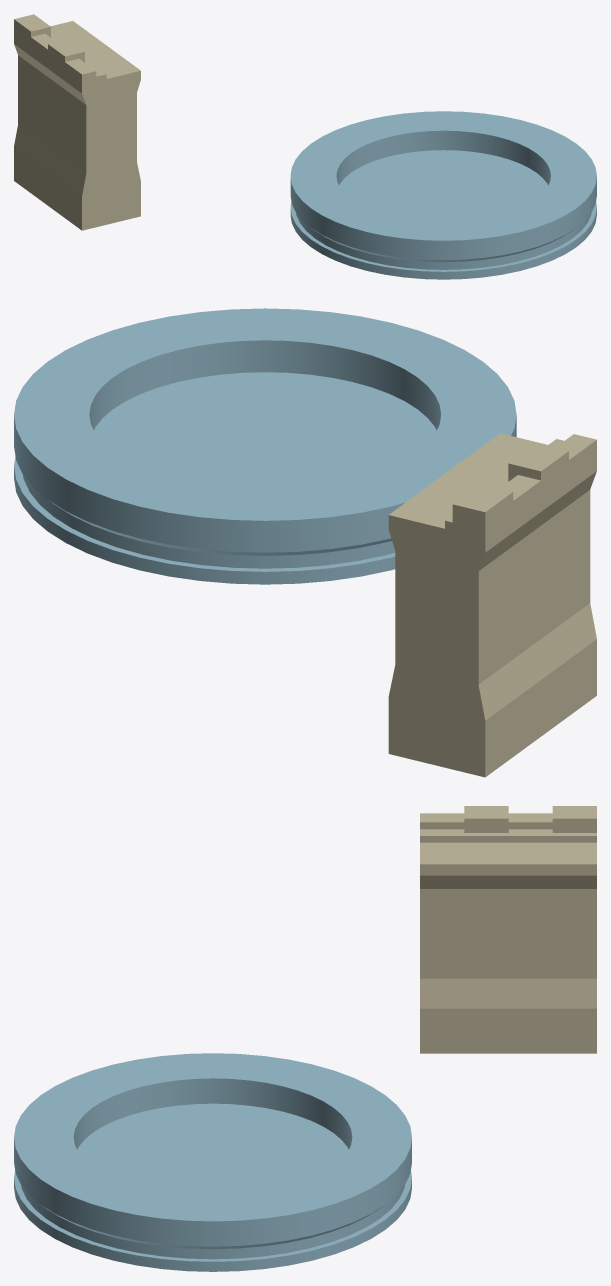
Rendered from stealth.glb.
3 renders of one model, top to bottom at view 1: azimuth 30°, elevation 25°; view 2: azimuth 150°, elevation 25°; view 3: azimuth 270°, elevation 25°, orthographic. The views are drawn at different scales.
Size of the model in its own units: 28.12 by 10.48 by 26.36.
